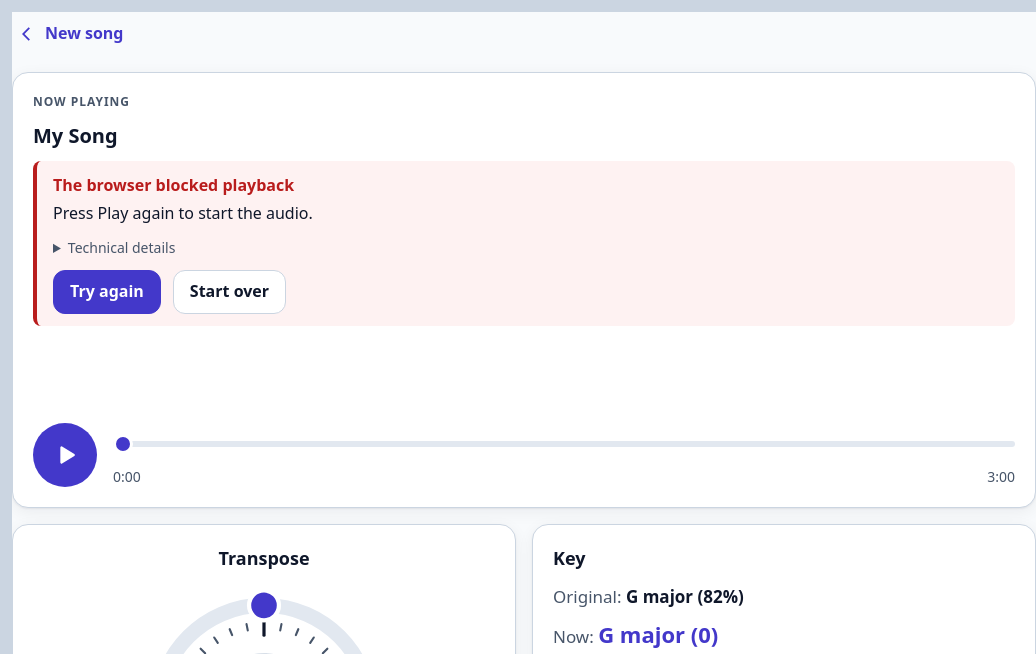
Test: TrackWorkspace › a blocked playback leaves Play usable, and pressing it clears the notice
Expected: the message shows "The browser blocked playback", [53,174,294,196]
What coordinates should you click on to do the following:
click the button named "Play"
I would click on:
 (65, 454)
Its box is [33,422,97,486].
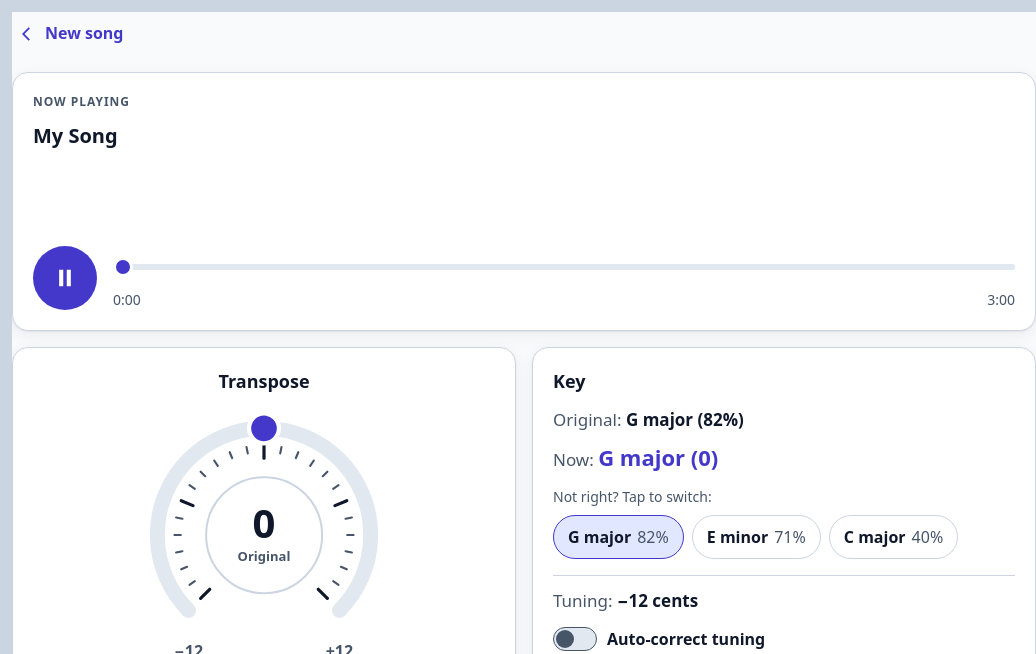
Expected: the message "The browser blocked playback Press Play again to start the audio." is gone
